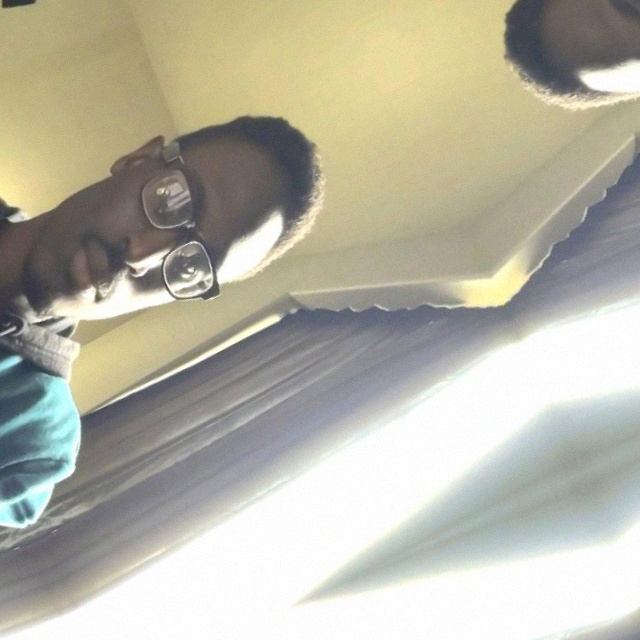Paper: (0, 40, 57, 409)
